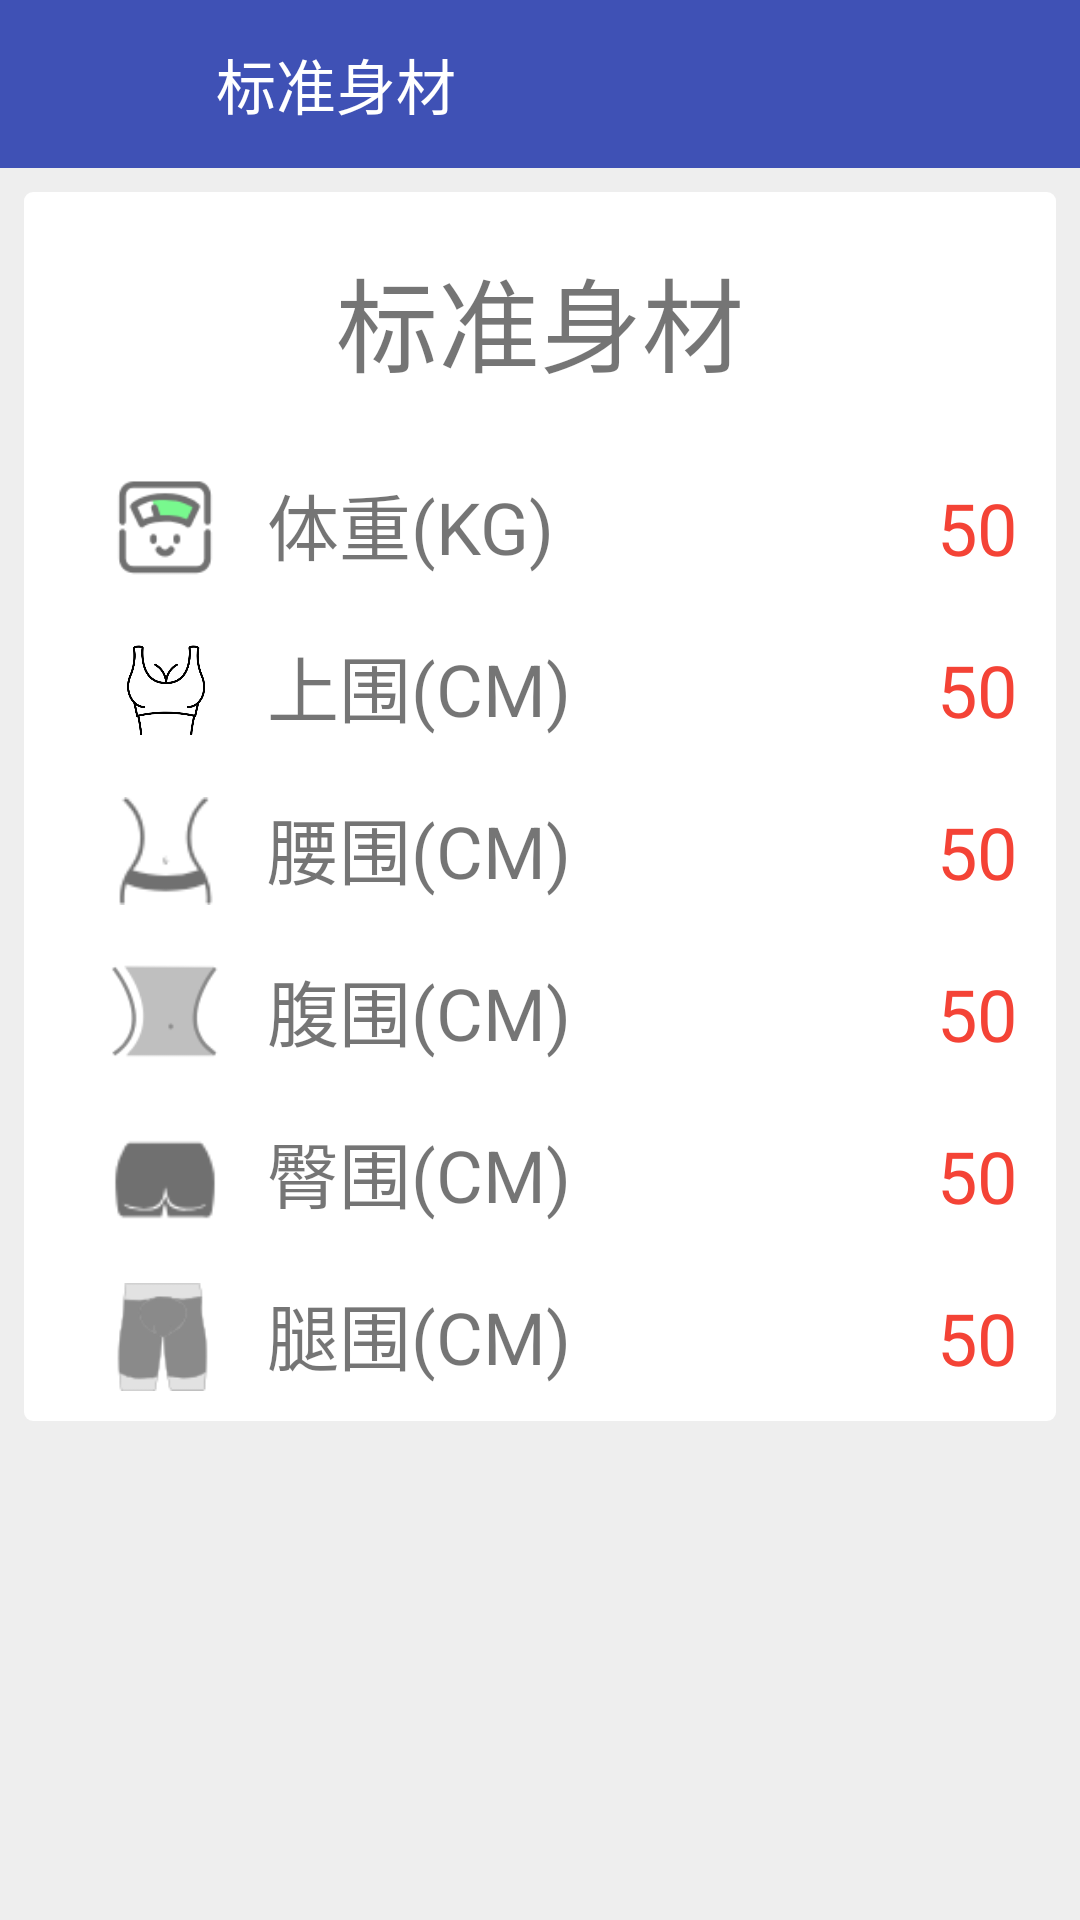

Icons on this 1080px×1920px Android screen, each with the point to tap as (x=x, y=y):
fuwei: (x=164, y=1011)
shangwei: (x=166, y=690)
tuiwei: (x=163, y=1337)
tunbu: (x=165, y=1180)
weight: (x=165, y=527)
yaowei: (x=165, y=851)
